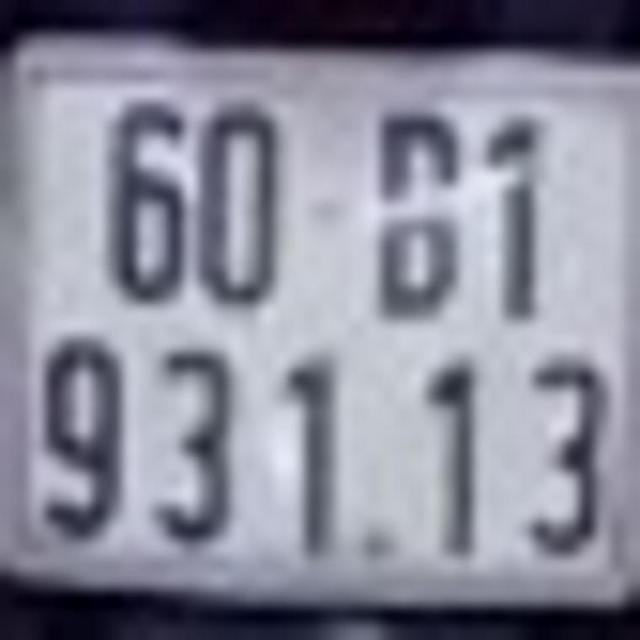0: (196, 86, 287, 308)
1: (268, 342, 340, 562), (490, 102, 546, 316), (424, 346, 476, 557)
3: (518, 350, 606, 566), (156, 332, 232, 542)
6: (104, 90, 184, 306)
9: (44, 331, 128, 543)
D: (367, 95, 462, 316)
